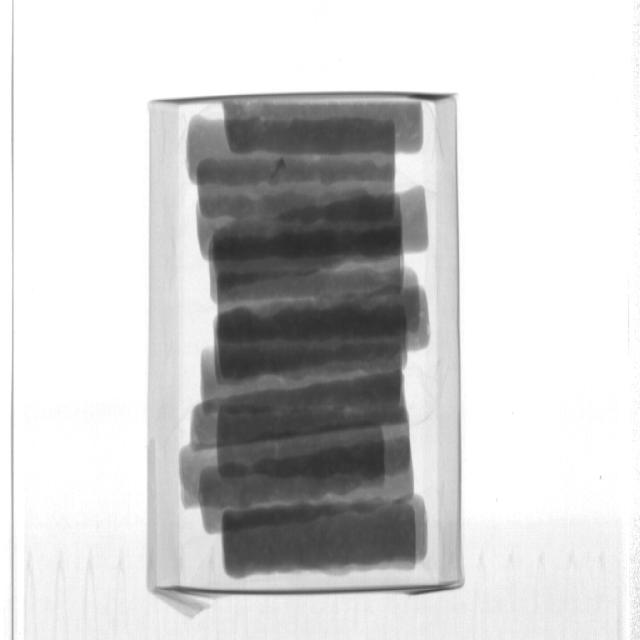ym: (272, 155, 287, 180)
